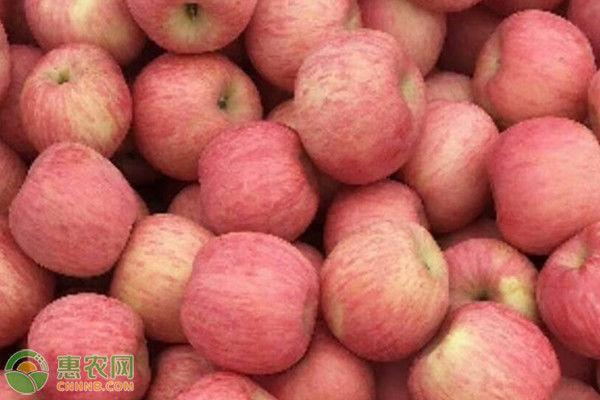apple: (275, 31, 425, 186), (178, 231, 320, 376), (319, 219, 446, 361), (9, 142, 138, 277), (135, 53, 262, 179), (488, 118, 600, 256), (405, 304, 561, 400), (193, 122, 318, 240), (470, 8, 597, 124), (10, 42, 133, 158), (25, 292, 154, 400), (108, 211, 213, 342), (438, 234, 539, 322), (538, 220, 600, 362), (351, 1, 458, 74), (24, 2, 145, 65), (130, 1, 254, 56)
